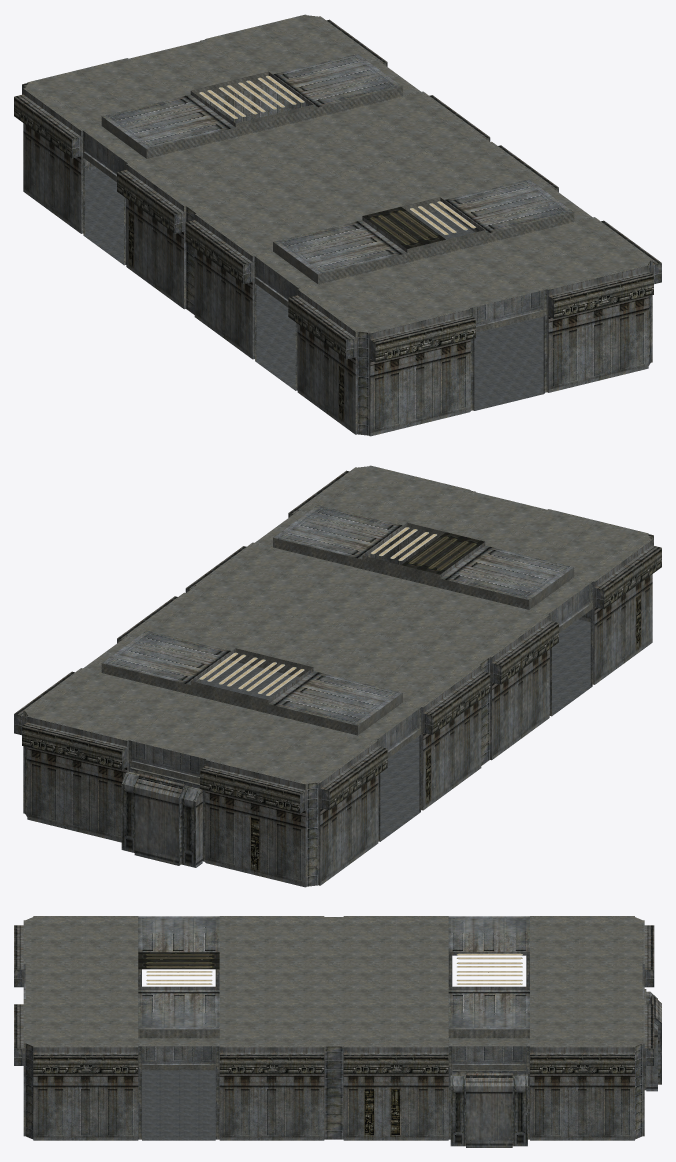
File: poi_all_impl_bunker_abandoned_s01_r26_armory_mesh.fbx
3 views of the same model, one above another, from view 1: azimuth 30°, elevation 25°; view 2: azimuth 150°, elevation 25°; view 3: azimuth 270°, elevation 25° (orthographic). The views are drawn at different scales.
Parts seen in each view (by area): view 1: mesh_node; view 2: mesh_node; view 3: mesh_node.
Boxes of the visible parts, x1,y1,x2,y2 form: mesh_node: (14, 14, 661, 436); mesh_node: (14, 465, 661, 887); mesh_node: (14, 916, 661, 1147).
Size of the model in its own units: 17.4 by 6 by 33.4.
